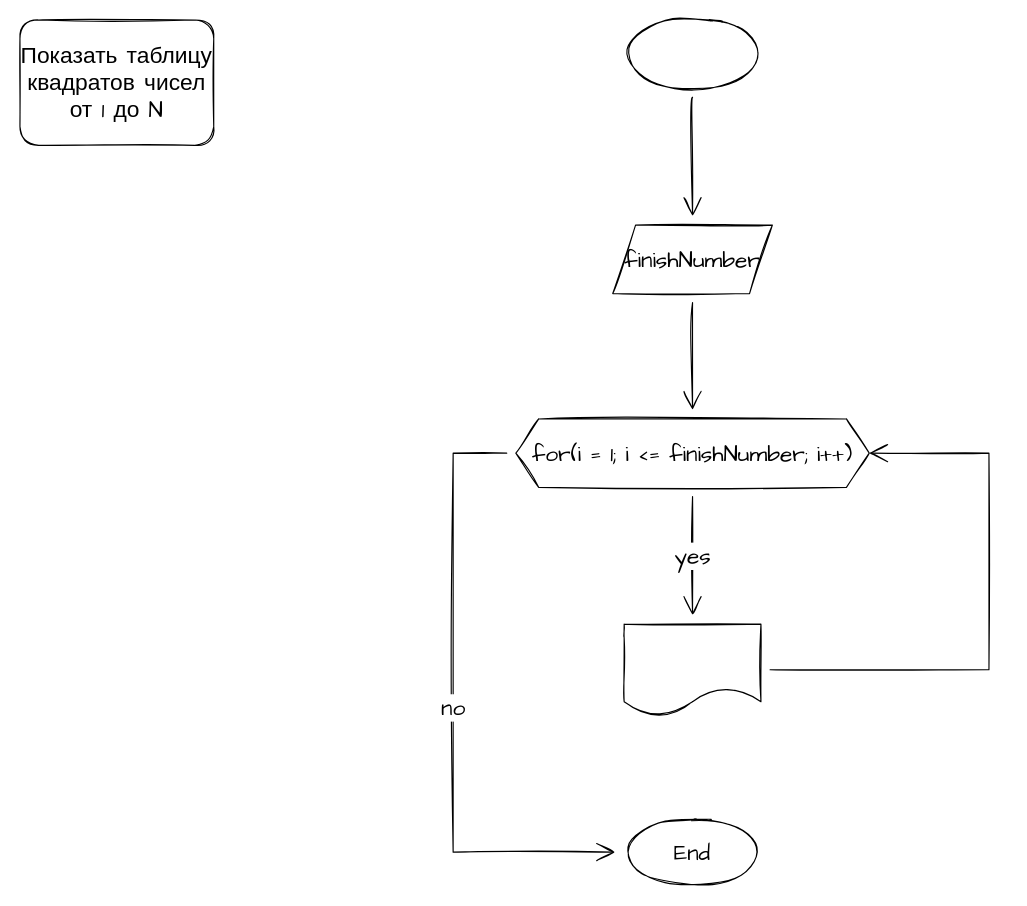
Some shapes in this 1027 by 906 pixel diagram are drawn without their labels. The box of each missing label's shape, as (x1, y1, x2, y2) in pixels:
Print i * i: (623, 623, 761, 715)
Start: (623, 19, 761, 88)
